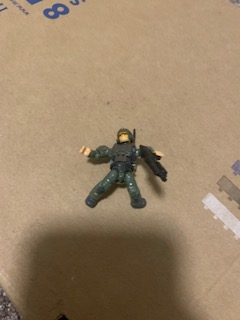soldier: (77, 128, 170, 211)
